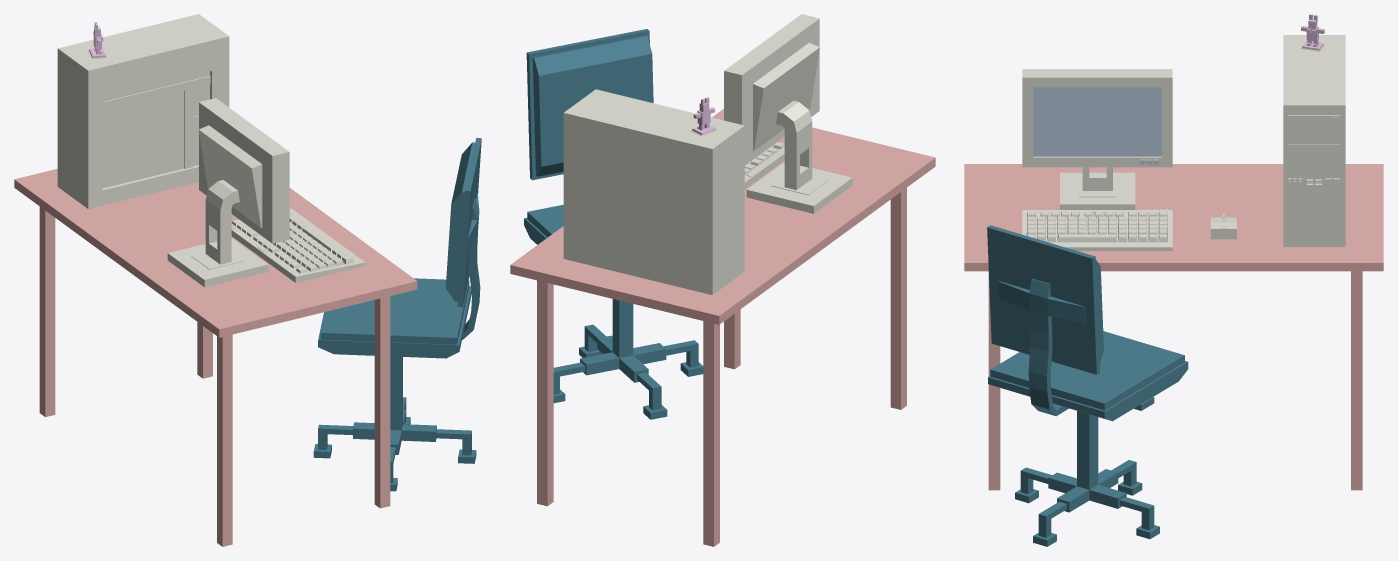
Rendered from Polypc_edited.fbx.
3 views of the same model, side by side, from view 1: azimuth 30°, elevation 25°; view 2: azimuth 150°, elevation 25°; view 3: azimuth 270°, elevation 25° (orthographic). The views are drawn at different scales.
Visible parts, largest first — view 1: Table, Computer, Monitor, Chair; view 2: Table, Computer, Chair, Monitor; view 3: Table, Chair, Monitor, Computer.
Boxes of the visible parts, x1,y1,x2,y2 form: Table: (14, 169, 417, 546); Computer: (57, 14, 229, 208); Monitor: (167, 98, 365, 287); Chair: (313, 137, 481, 491); Table: (510, 109, 935, 546); Computer: (563, 89, 744, 294); Chair: (524, 29, 703, 419); Monitor: (724, 14, 852, 213); Table: (964, 164, 1383, 490); Chair: (987, 225, 1188, 546); Monitor: (1022, 69, 1236, 250); Computer: (1283, 14, 1345, 246).
Size of the model in its own units: 510 by 599 by 557.
